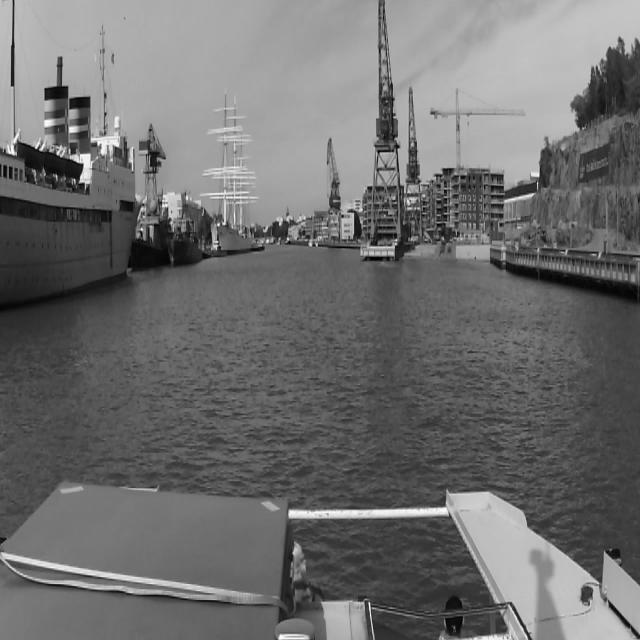ship: (0, 0, 140, 310), (198, 78, 260, 254), (129, 196, 168, 274), (167, 191, 203, 268), (309, 216, 319, 250)
